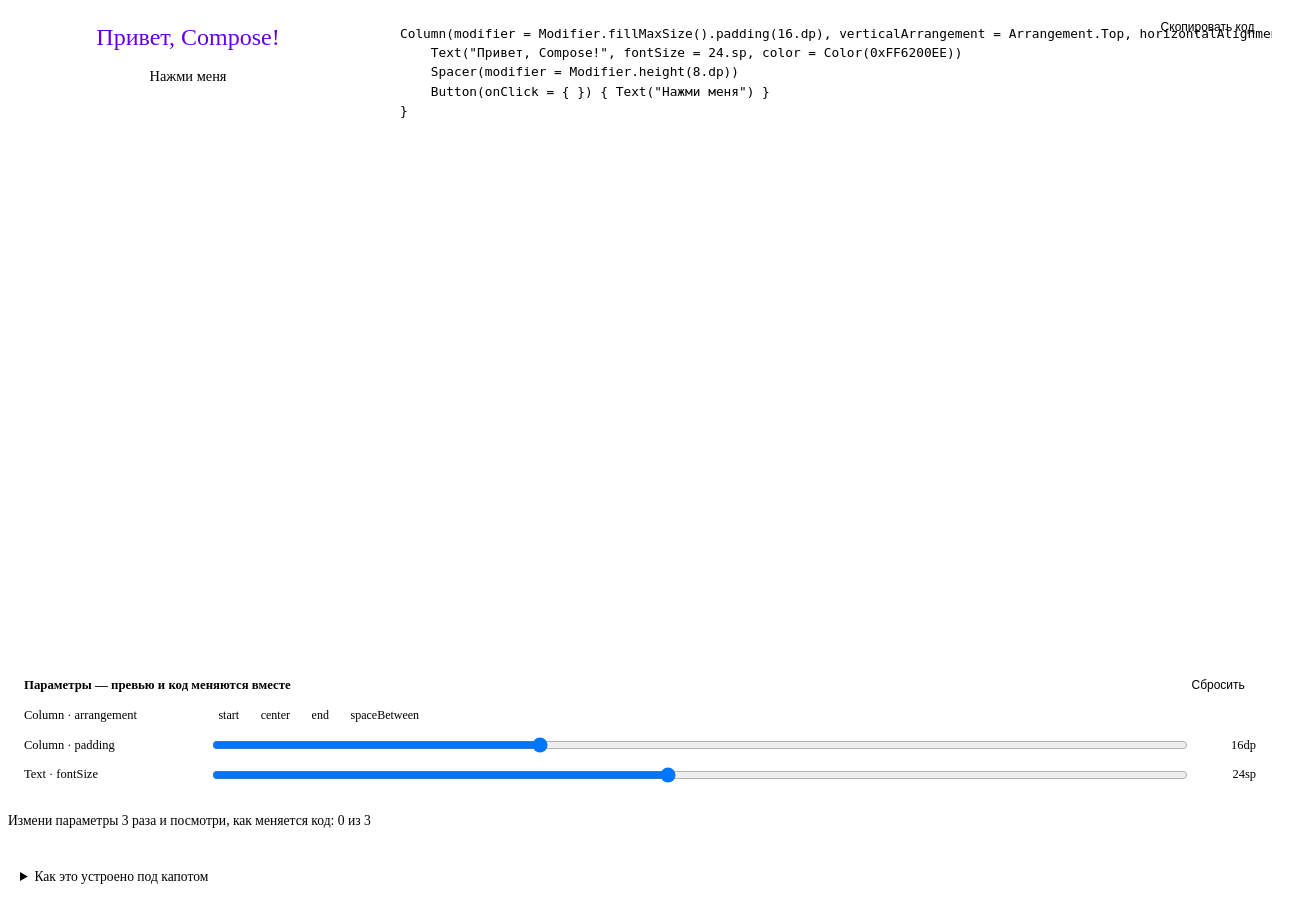
it: 3 changes complete the goal: markTrainerDone + XP + done badge
expect the text "Измени параметры 3 раза и посмотри, как меняется код: 0 из 3" is shown: met, box x1=8 y1=813 x2=371 y2=828
Click the button "spaceBetween".
click(385, 715)  # box x1=342 y1=704 x2=428 y2=726
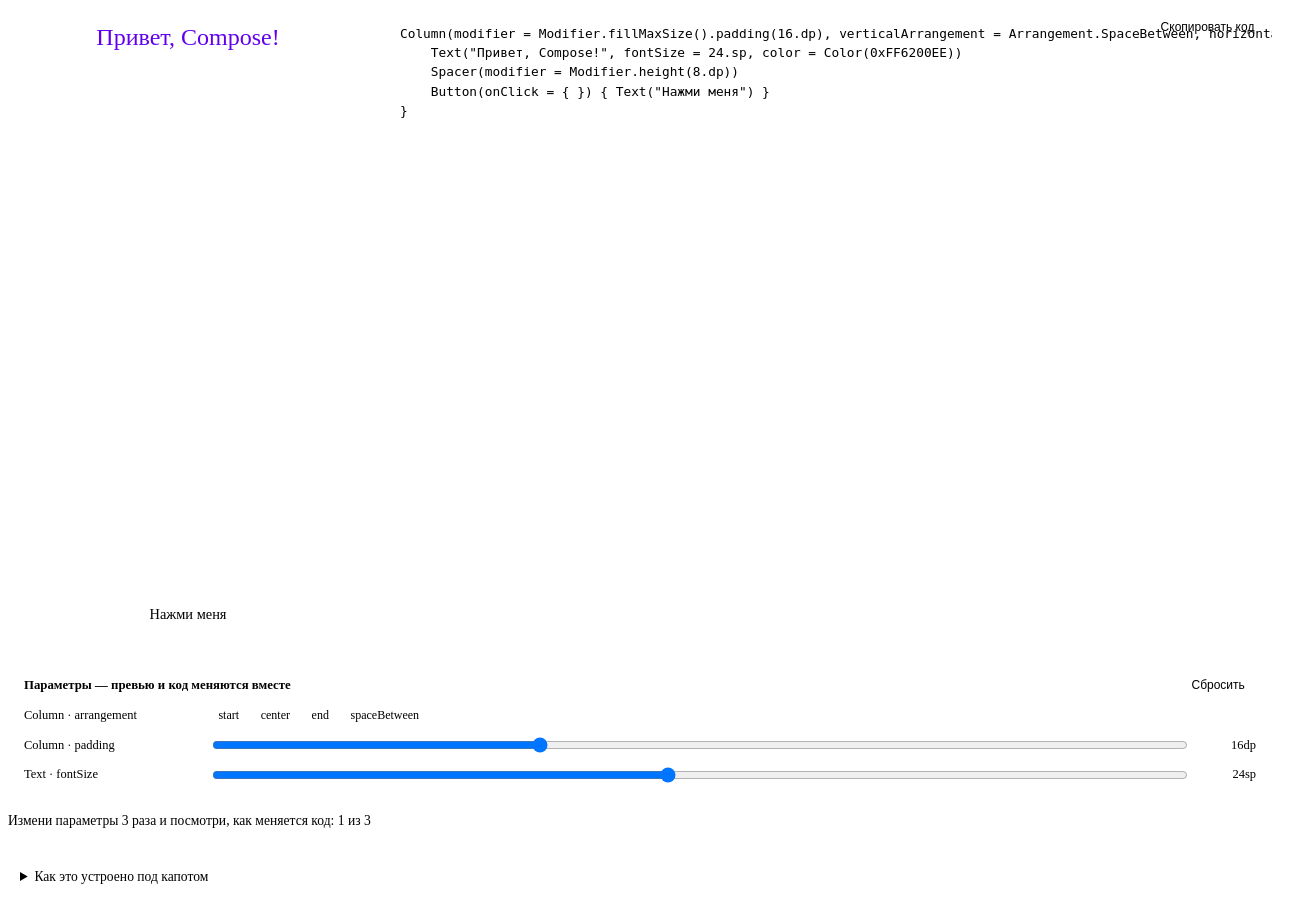
Click the button "end".
click(320, 715)  # box x1=303 y1=704 x2=338 y2=726
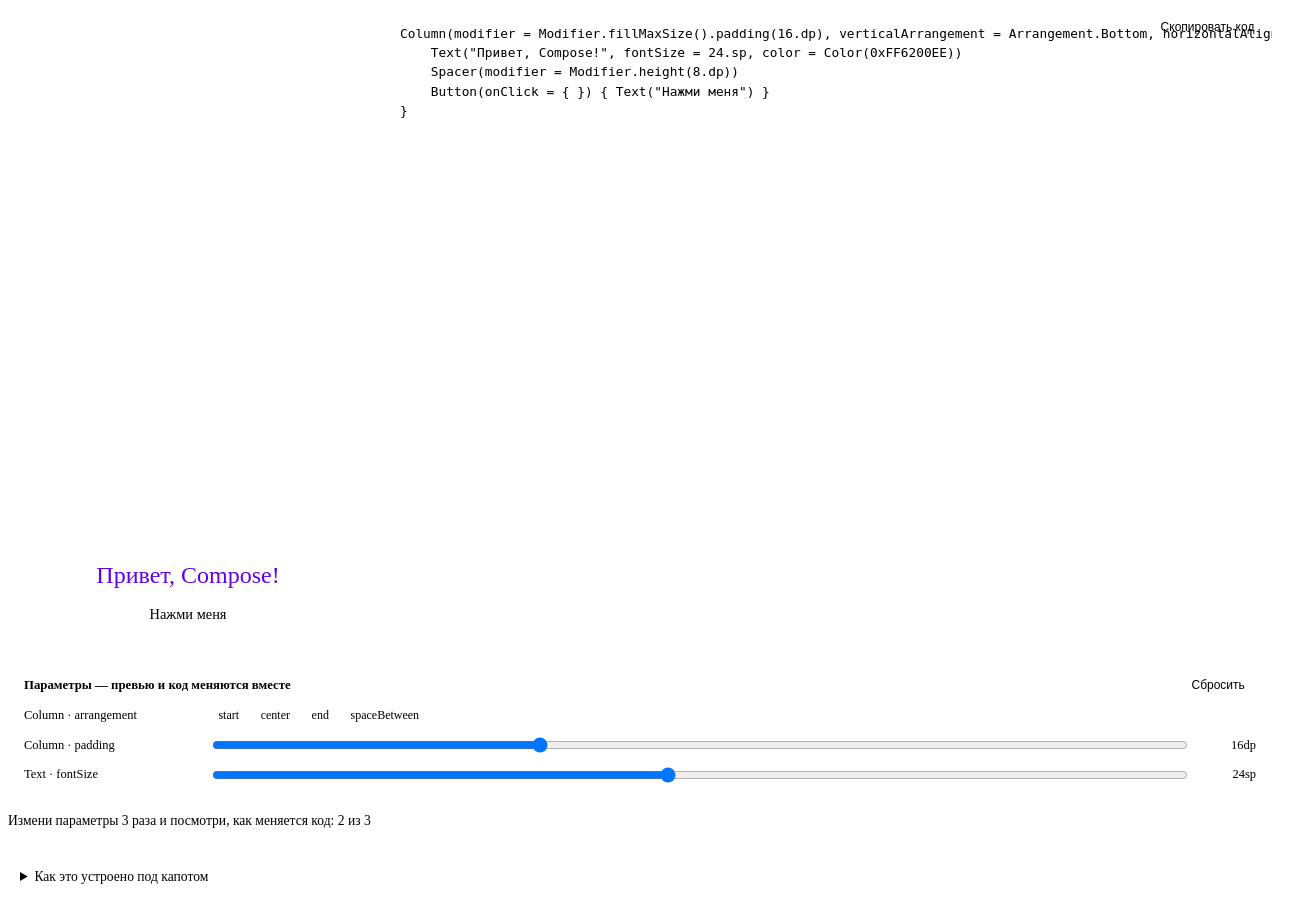
Set the slider labelled "Text · fontSize 24sp" to "32" at (924, 775), box x1=212 y1=767 x2=1188 y2=783
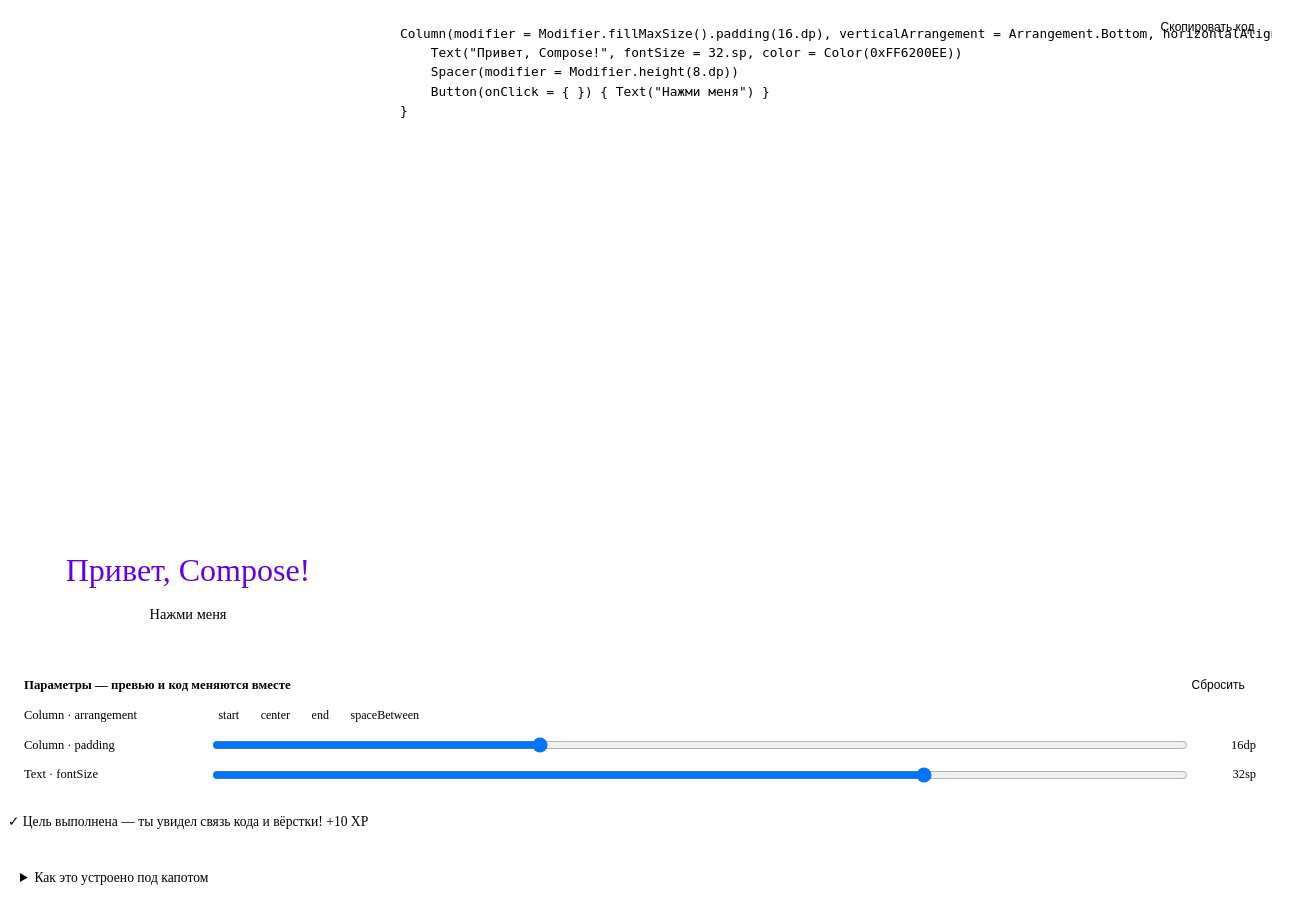
expect the text "✓ Цель выполнена — ты увидел связь кода и вёрстки! +10 XP" is shown: met, box x1=8 y1=814 x2=368 y2=829
